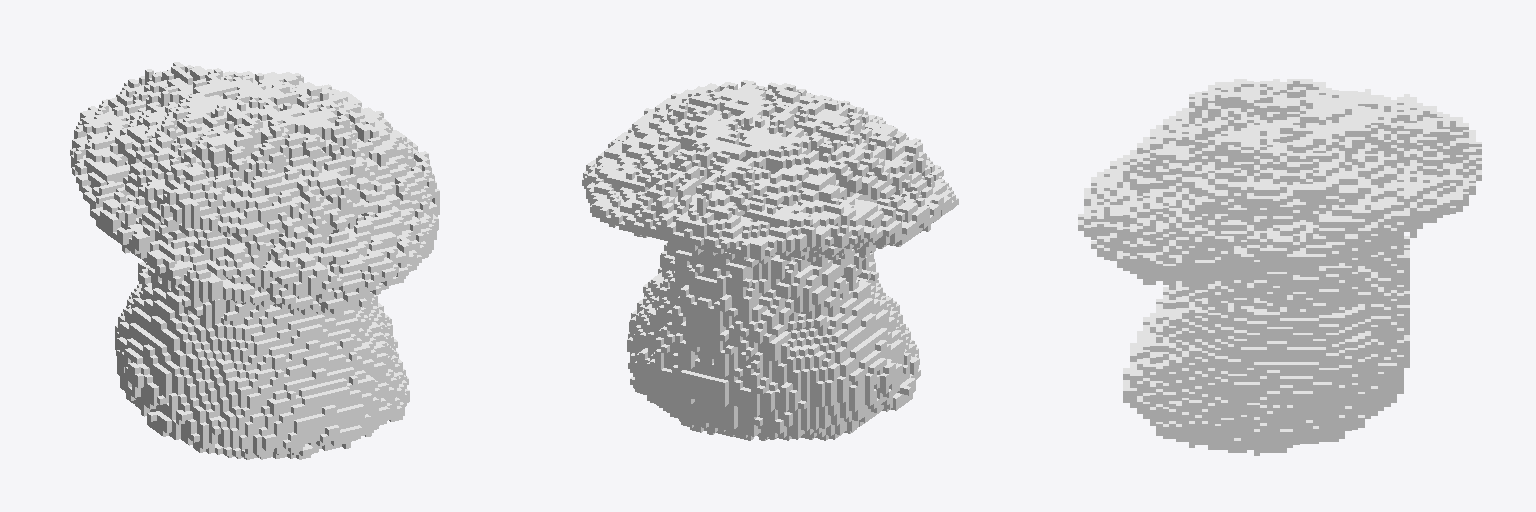
File: OrangeMush.obj
3 renders of one model, left to right at view 1: azimuth 30°, elevation 25°; view 2: azimuth 150°, elevation 25°; view 3: azimuth 270°, elevation 25°, orthographic.
Parts seen in each view (by area): view 1: object 1; view 2: object 1; view 3: object 1.
Boxes of the visible parts, x1=… form: object 1: x1=70, y1=62, x2=439, y2=459; object 1: x1=582, y1=80, x2=958, y2=440; object 1: x1=1078, y1=79, x2=1481, y2=455.
Bounding box in the file's own units: 5.4 × 4.9 × 6.2.